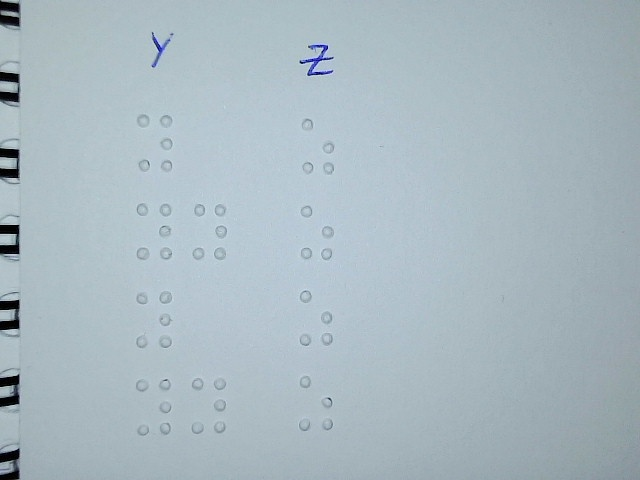Y: (134, 111, 175, 173), (134, 200, 175, 262), (189, 200, 230, 262), (188, 374, 229, 436), (134, 288, 175, 350)
Z: (299, 116, 337, 175), (298, 203, 336, 262), (298, 288, 336, 347), (298, 373, 336, 432)
